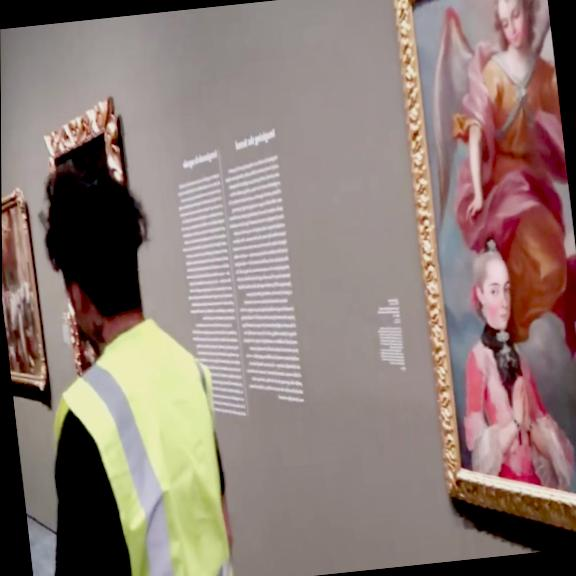safety_vest: (39, 309, 237, 576)
